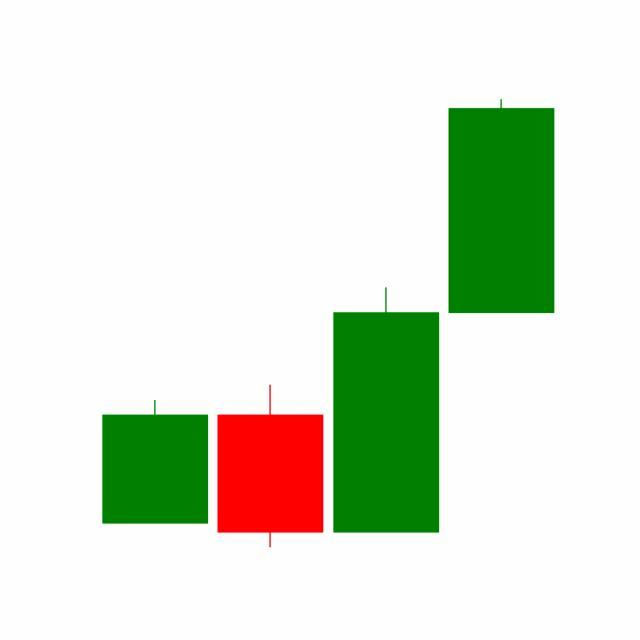Marubozu: (444, 97, 560, 315)
